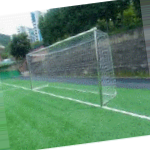goals: (22, 26, 118, 108)
